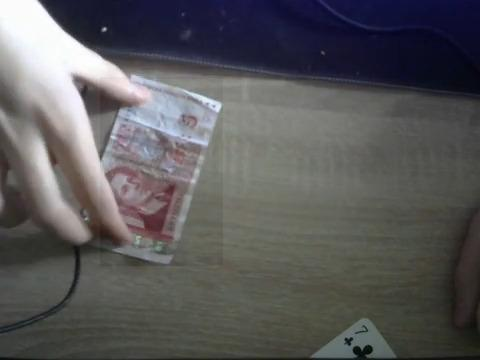5leva: (100, 77, 223, 266)
